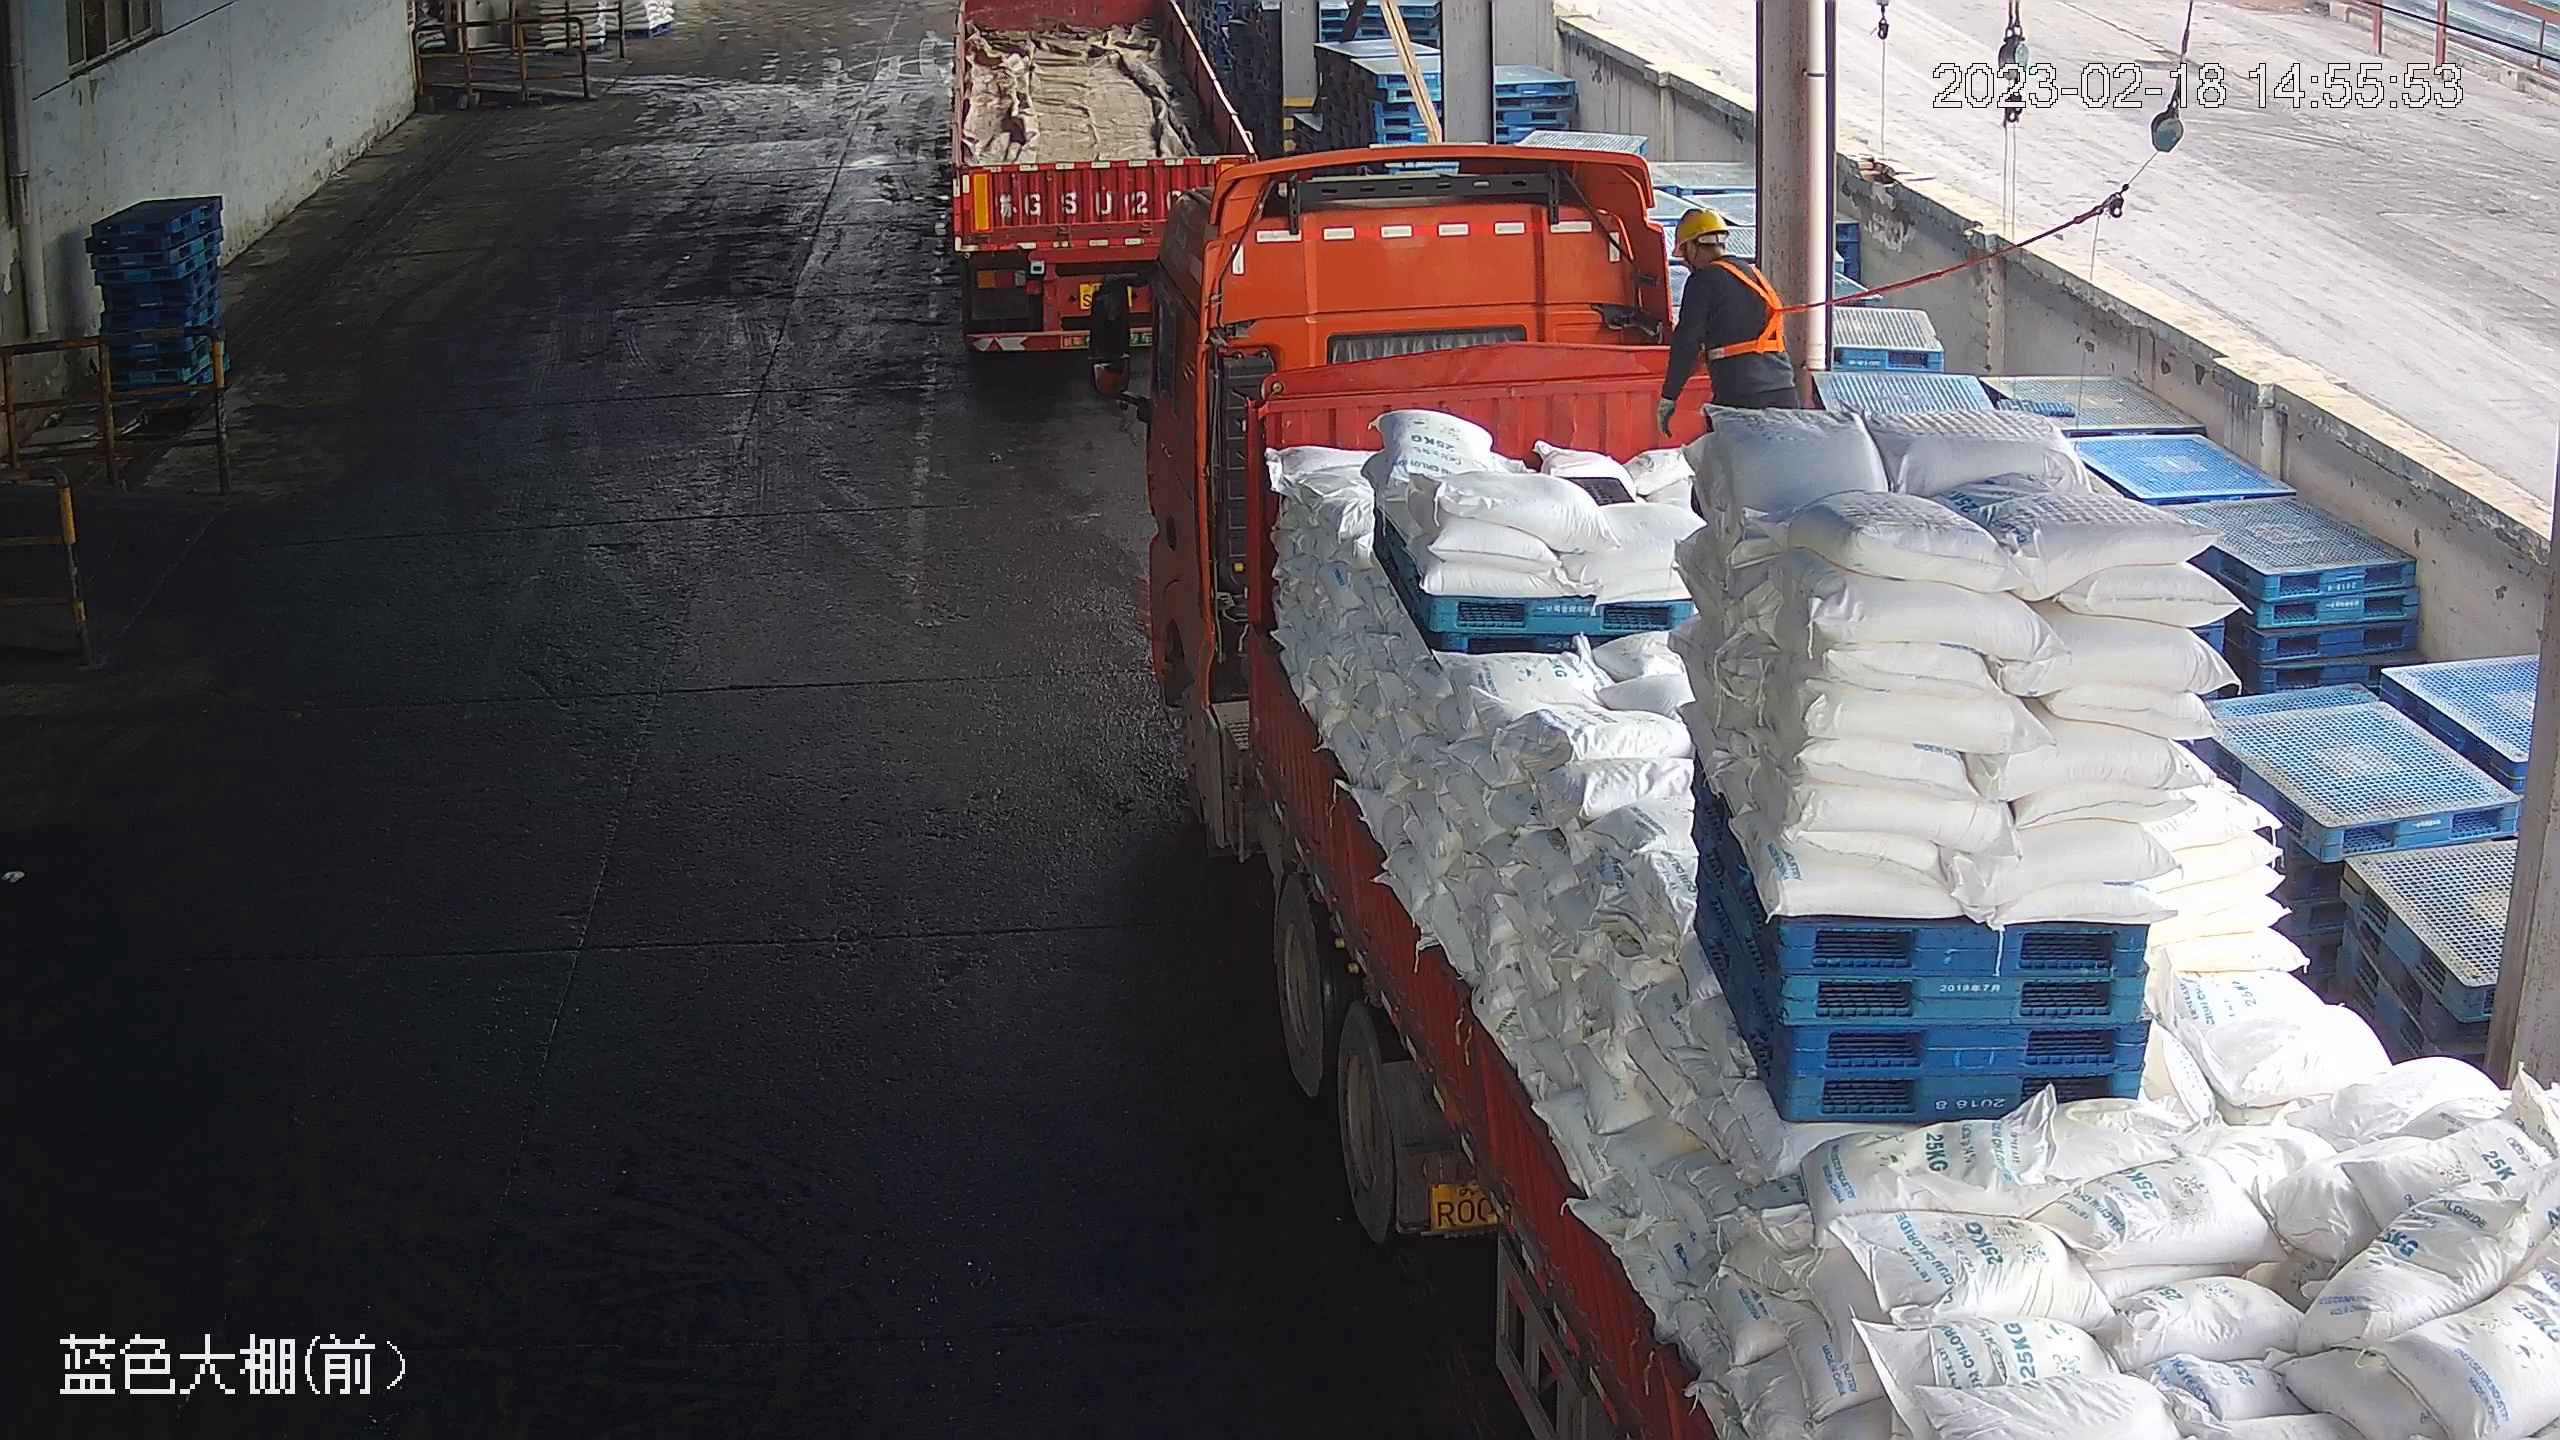belt: (1708, 256, 1792, 360)
head: (1666, 205, 1786, 304)
helmet: (1671, 205, 1732, 249)
people: (1654, 203, 1807, 441)
truck: (1112, 163, 2559, 1440), (912, 3, 1296, 375)
